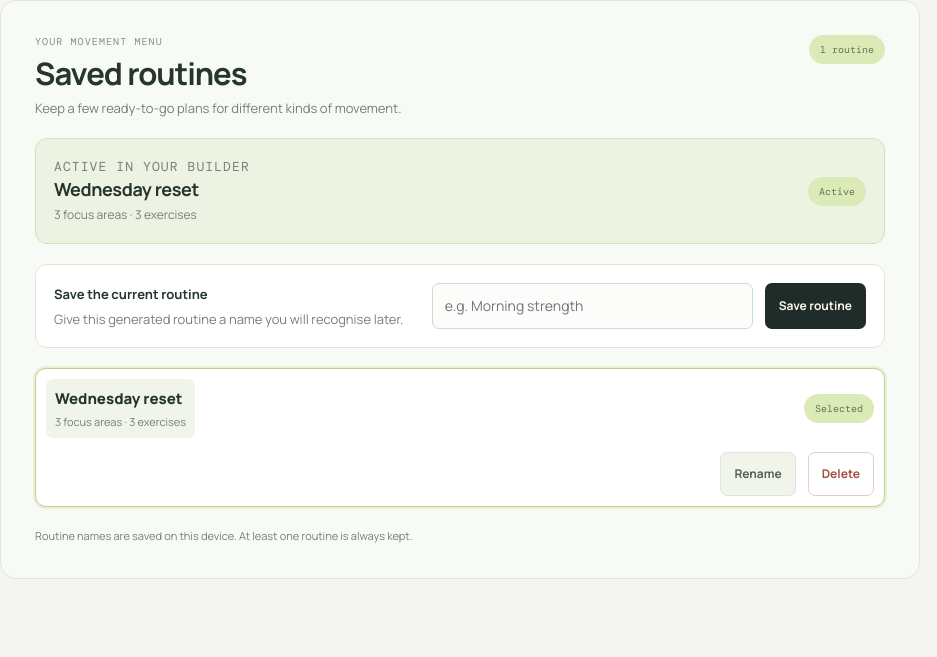
Test: RoutineManager › prevents deleting the final routine and explains why
Step 1. Click the button with aria-label "Delete Wednesday reset" → [841, 474], box [808, 452, 874, 496]
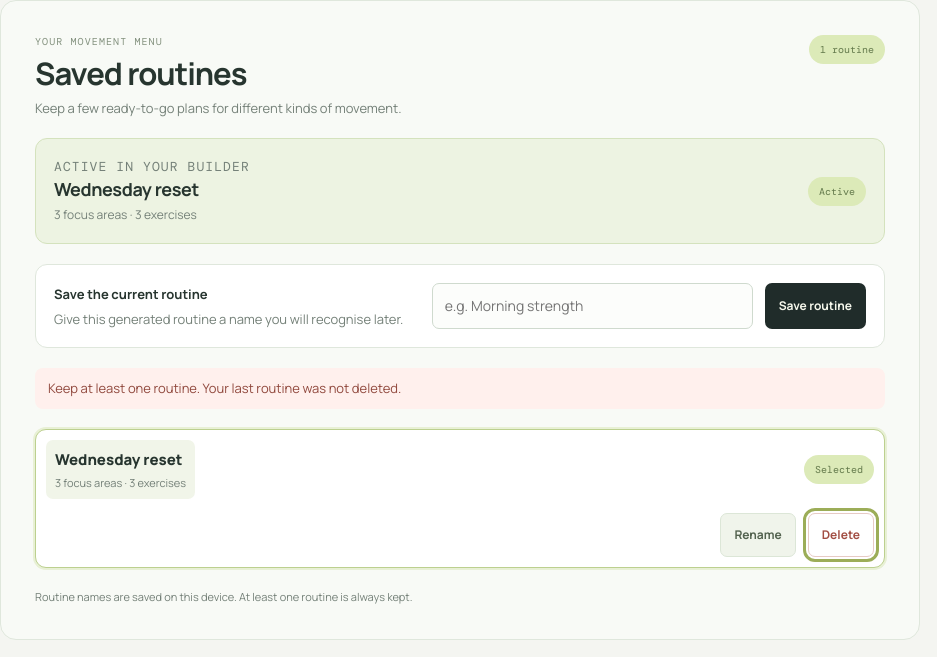
expect the text "At least one routine is always kept" is shown: met, box [35, 589, 412, 604]
expect the message shows "Keep at least one routine.": met, box [48, 379, 401, 397]
